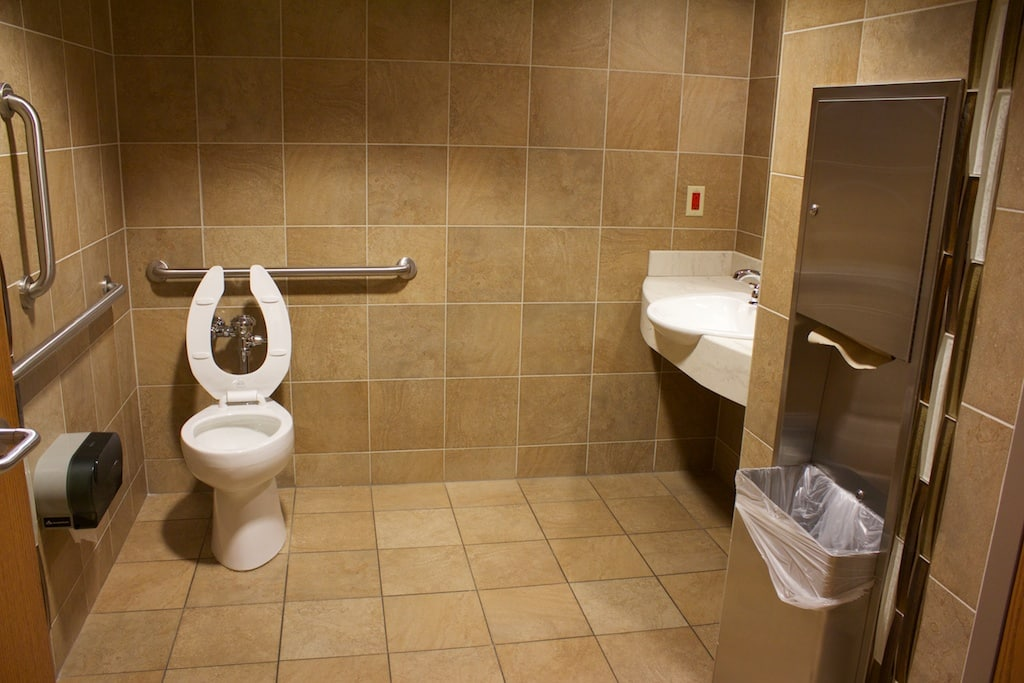counter: (644, 275, 756, 407)
countertop: (645, 270, 758, 356)
dispenser: (791, 86, 952, 373), (19, 424, 129, 538)
door_handle: (1, 422, 42, 475)
faucet: (734, 266, 761, 305)
restroom_assist_bar: (1, 274, 128, 384), (1, 77, 62, 306), (145, 255, 417, 285)
sink: (645, 293, 758, 348)
toilet: (180, 271, 297, 575)
waste_bin: (716, 466, 890, 683)
